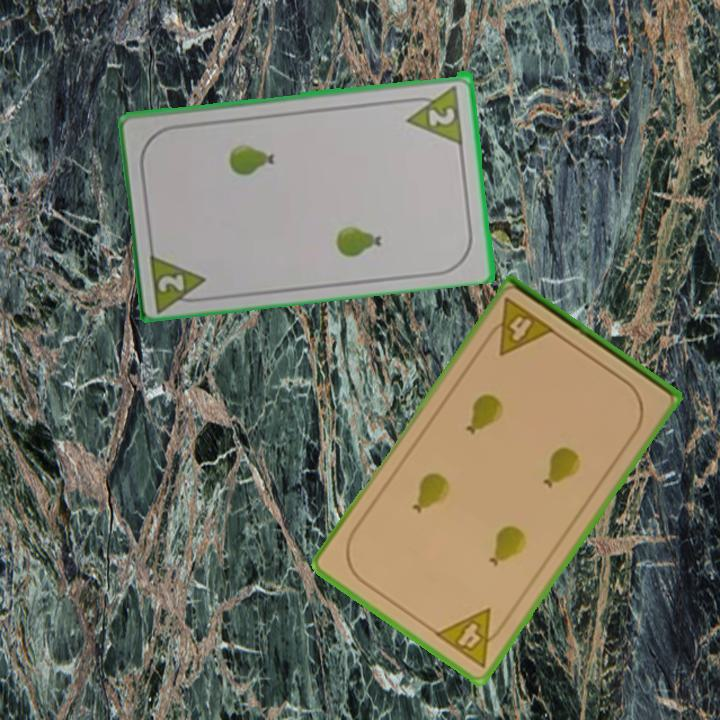2p: (146, 247, 213, 312), (402, 81, 466, 145)
4p: (431, 604, 511, 671), (480, 294, 558, 359)
